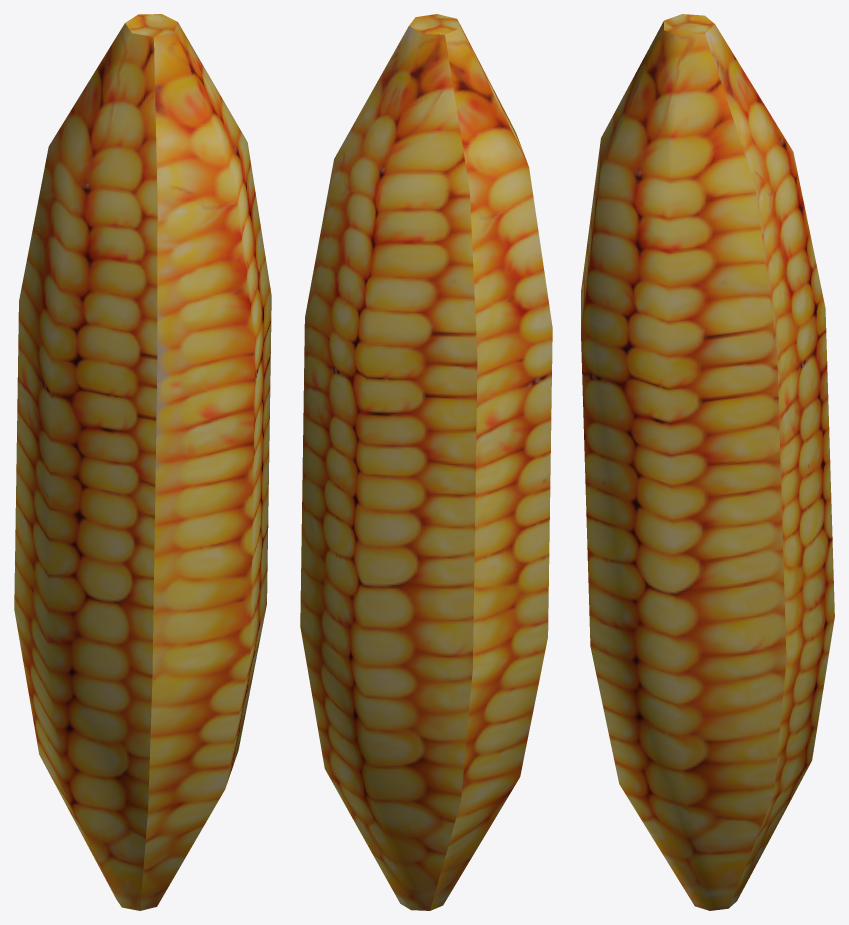
Rendered from corn_low_poly.glb.
The picture shows the model from 3 angles, left to right: view 1: azimuth 30°, elevation 25°; view 2: azimuth 150°, elevation 25°; view 3: azimuth 270°, elevation 25°; orthographic projection.
Parts seen in each view (by area): view 1: Circle_020_corn_plant__corn_texture_png_0_corn_plant__corn_t; view 2: Circle_020_corn_plant__corn_texture_png_0_corn_plant__corn_t; view 3: Circle_020_corn_plant__corn_texture_png_0_corn_plant__corn_t.
Part boxes in pixels (<box>): Circle_020_corn_plant__corn_texture_png_0_corn_plant__corn_t: <box>14,14,271,910</box>; Circle_020_corn_plant__corn_texture_png_0_corn_plant__corn_t: <box>300,14,552,910</box>; Circle_020_corn_plant__corn_texture_png_0_corn_plant__corn_t: <box>581,14,834,910</box>.
Size of the model in its own units: 0.102 by 0.3938 by 0.1032.
1 material, 1 textured.
